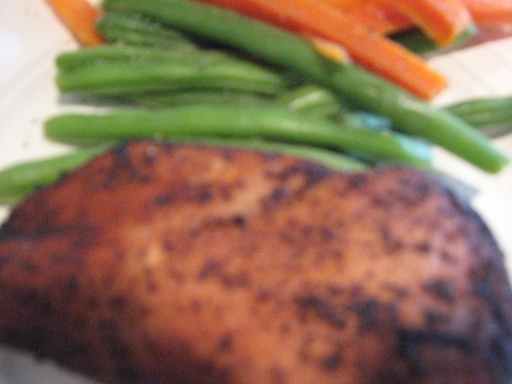background: (0, 0, 410, 230)
